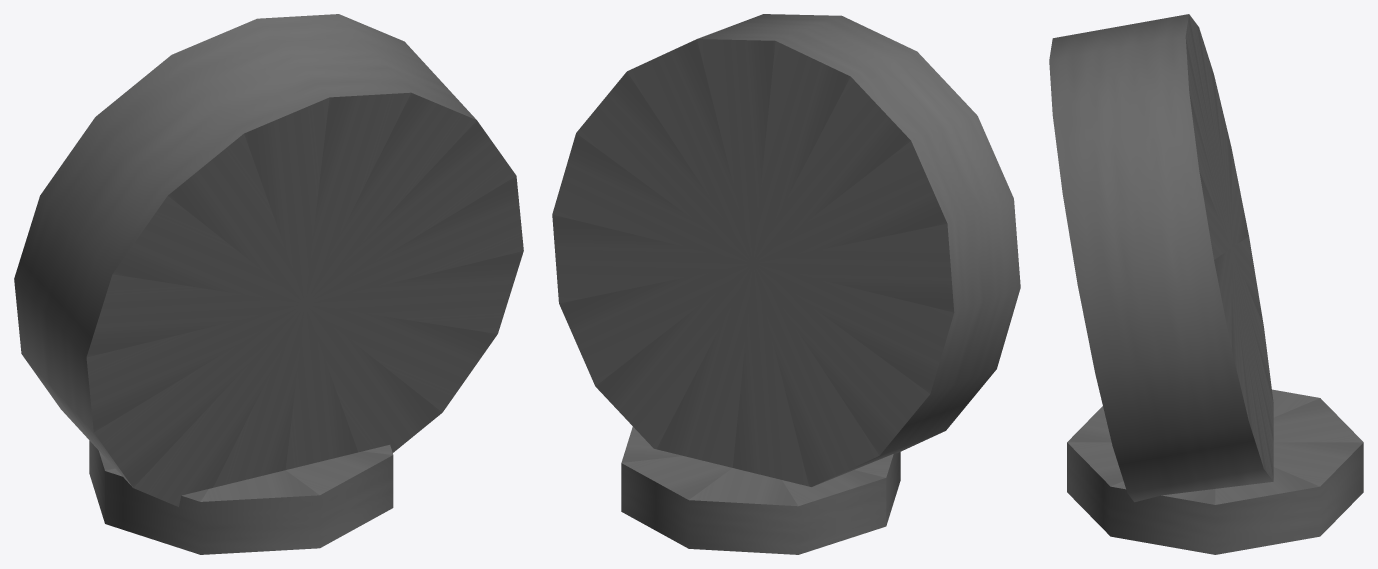
The model's file is mastarmcurve_4x1_c3_down.obj.
3 renders of one model, left to right at view 1: azimuth 30°, elevation 25°; view 2: azimuth 150°, elevation 25°; view 3: azimuth 270°, elevation 25°, orthographic. The views are drawn at different scales.
Parts seen in each view (by area): view 1: mastarm_4x1_c3_down; view 2: mastarm_4x1_c3_down; view 3: mastarm_4x1_c3_down.
Boxes of the visible parts, x1,y1,x2,y2 form: mastarm_4x1_c3_down: (14, 14, 523, 554); mastarm_4x1_c3_down: (552, 14, 1020, 554); mastarm_4x1_c3_down: (1049, 14, 1363, 554).
Bounding box in the file's own units: 0.6419 × 0.6783 × 0.4241.
